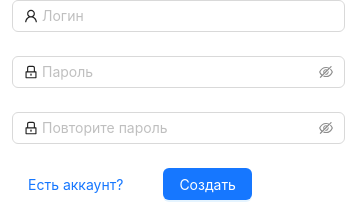
it: Проверка компонента FormNewAccount › Введите свой псевдоним! Введите пароль! Повторите пароль!
Type "testloginpassworddonotrespond" into the password field with placeholder "Пароль". click: (179, 72)
box: [42,61,315,83]
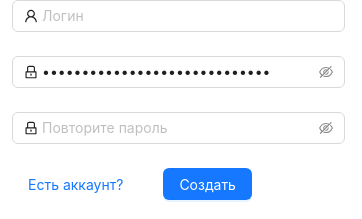
Type "testloginpassworddonotrespond235325235" into the password field with placeholder "Повторите пароль". click: (179, 128)
box: [42,117,315,139]
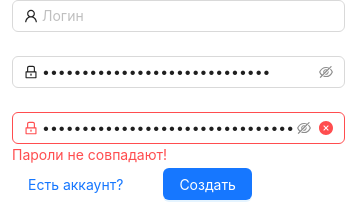
Expected: the text "Пароли не совпадают!" is shown, [12,146,167,163]
